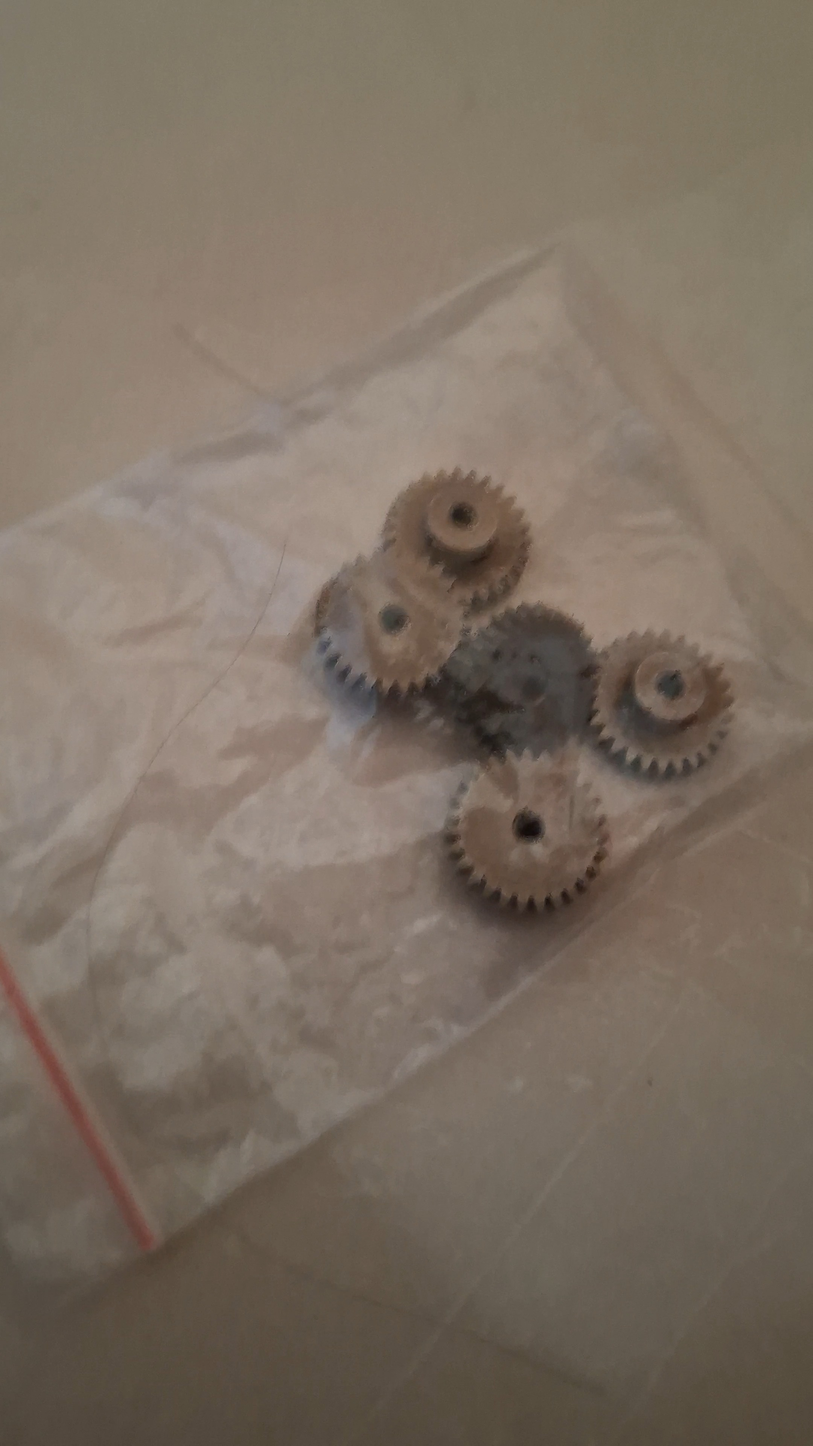spur gear: (446, 747, 608, 909), (441, 604, 595, 754), (317, 549, 462, 695), (592, 632, 732, 777), (382, 469, 529, 606)
